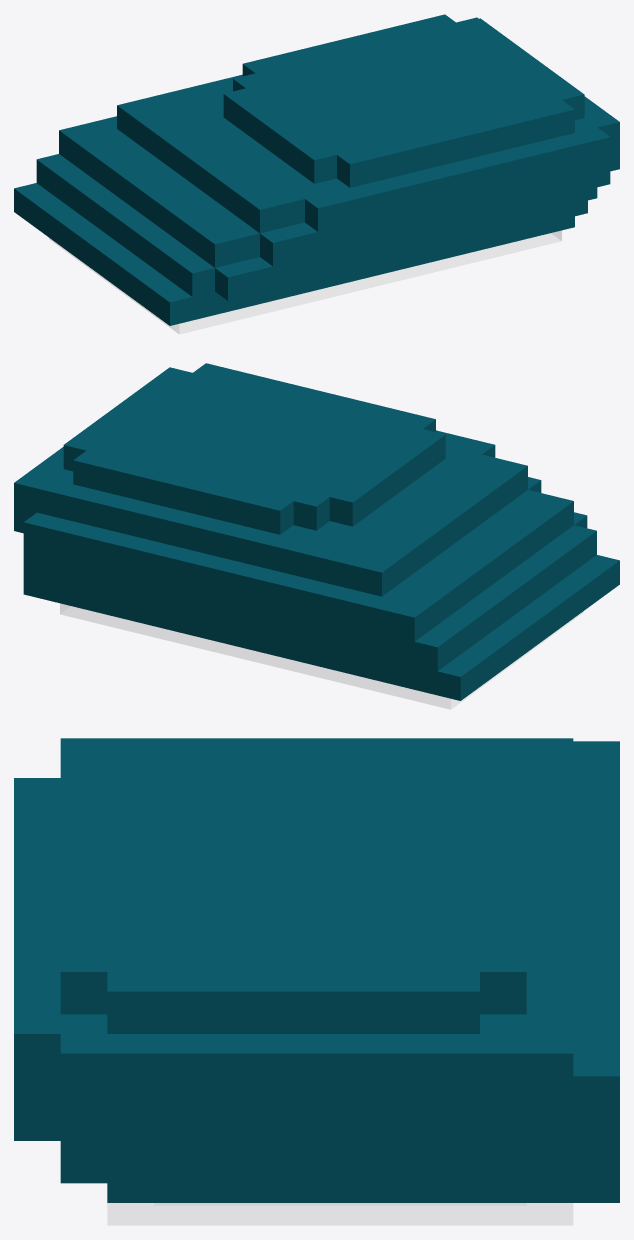
The model's file is accessories_head_painterhat.glb.
The picture shows the model from 3 angles, top to bottom: view 1: azimuth 30°, elevation 25°; view 2: azimuth 150°, elevation 25°; view 3: azimuth 270°, elevation 25°; orthographic projection. The views are drawn at different scales.
Visible parts, largest first — view 1: model_0; view 2: model_0; view 3: model_0.
Part boxes in pixels (x1,y1,x2,y2): model_0: [14, 14, 619, 334]; model_0: [14, 363, 619, 709]; model_0: [14, 738, 619, 1225].
Bounding box in the file's own units: 20 × 6 × 13.
